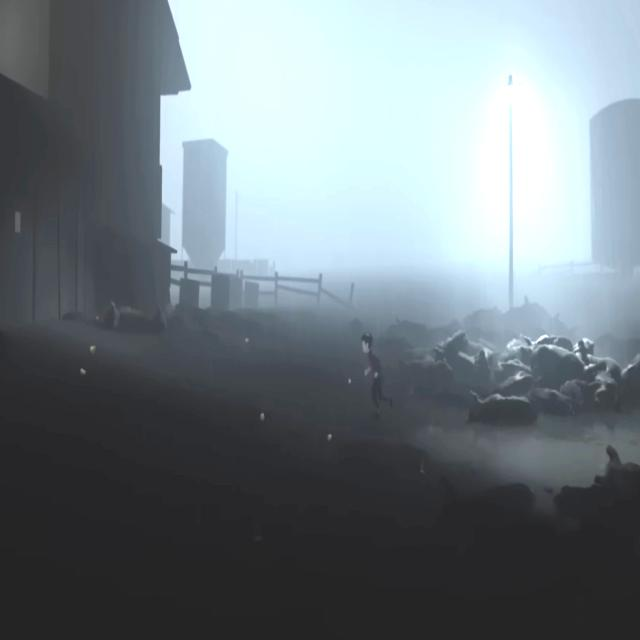boy: (364, 332, 390, 412)
